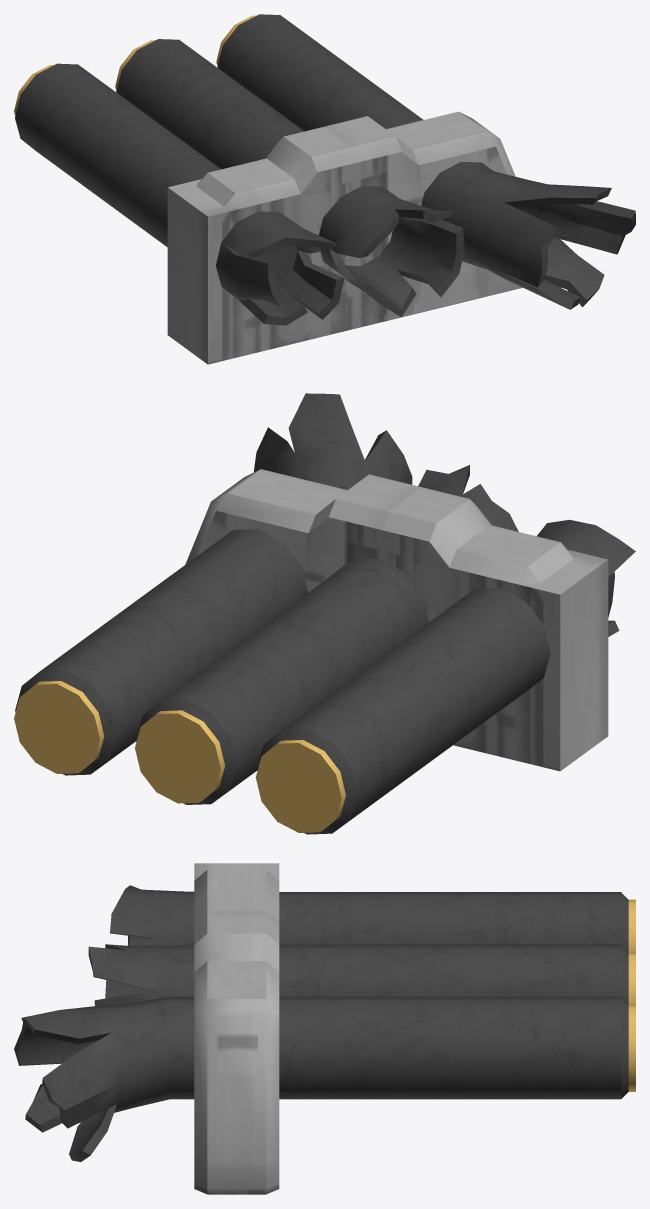
File: 3_pipes_cut_2.fbx
3 views of the same model, one above another, from view 1: azimuth 30°, elevation 25°; view 2: azimuth 150°, elevation 25°; view 3: azimuth 270°, elevation 25° (orthographic). The views are drawn at different scales.
Parts seen in each view (by area): view 1: 3_pipes_cut_2; view 2: 3_pipes_cut_2; view 3: 3_pipes_cut_2.
Boxes of the visible parts, x1,y1,x2,y2 form: 3_pipes_cut_2: (14,14,635,364); 3_pipes_cut_2: (14,393,635,834); 3_pipes_cut_2: (14,863,635,1194).
Bounding box in the file's own units: 214 × 100 × 302.
